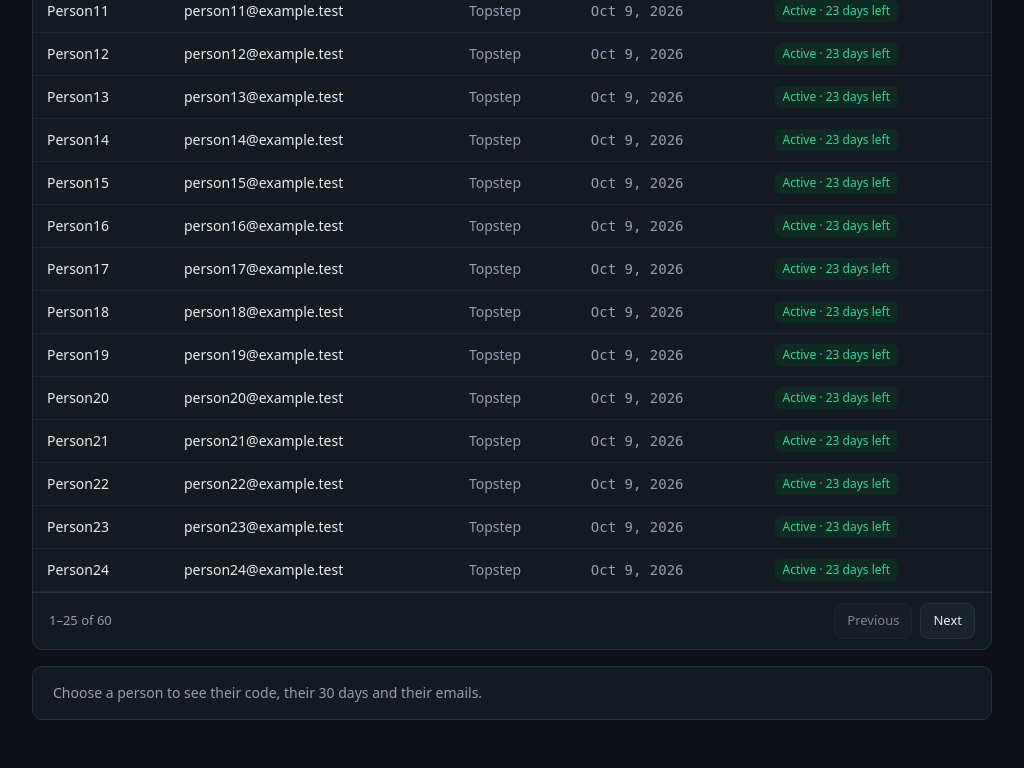
Test case: the list › pages through more than 25 people, and says where it is
(page scrolled)
Expected: the text "1–25 of 60" is shown, left=49, top=611, right=112, bottom=630
Expected: the button "Previous" is disabled, left=834, top=603, right=912, bottom=639
Click the button "Next": (948, 621) left=920, top=603, right=975, bottom=639
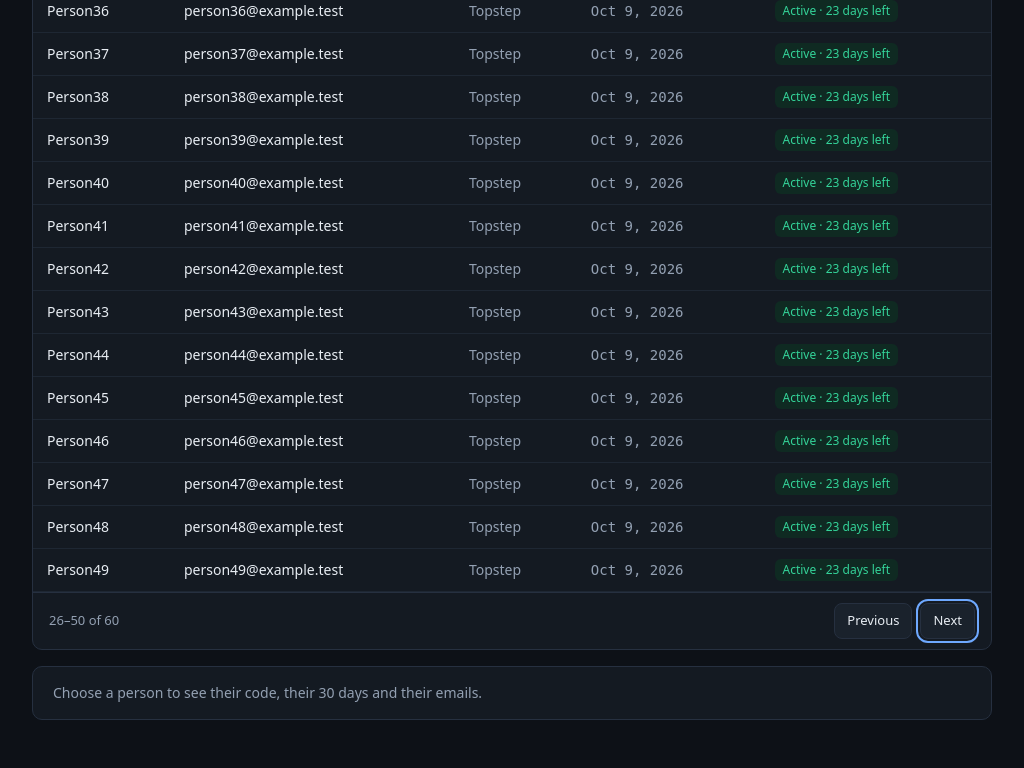
Now the text "26–50 of 60" is shown, box left=49, top=611, right=119, bottom=630
Click the button "Next": (948, 621) left=920, top=603, right=975, bottom=639
(page scrolled)
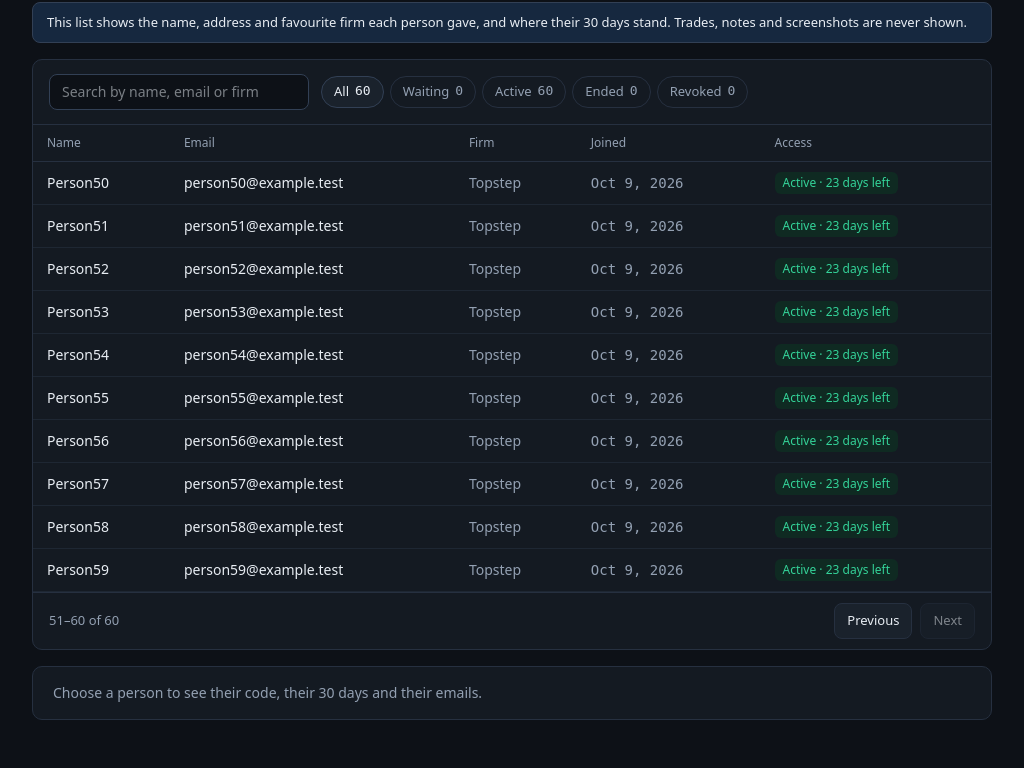
Now the text "51–60 of 60" is shown, box left=49, top=611, right=119, bottom=630
Now the button "Next" is disabled, box left=920, top=603, right=975, bottom=639
